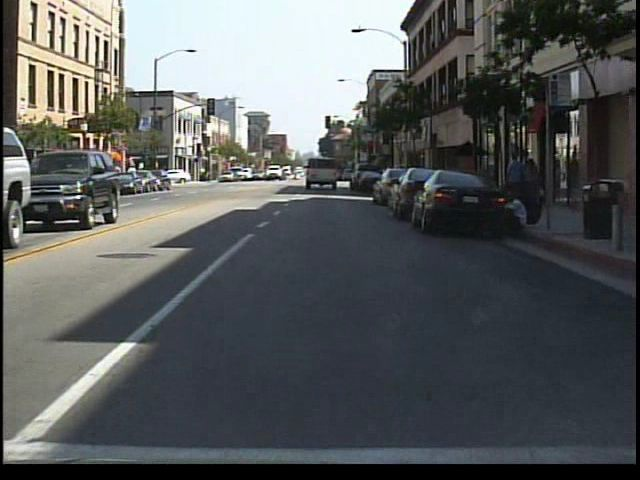person: (500, 147, 526, 214), (520, 156, 544, 213)
